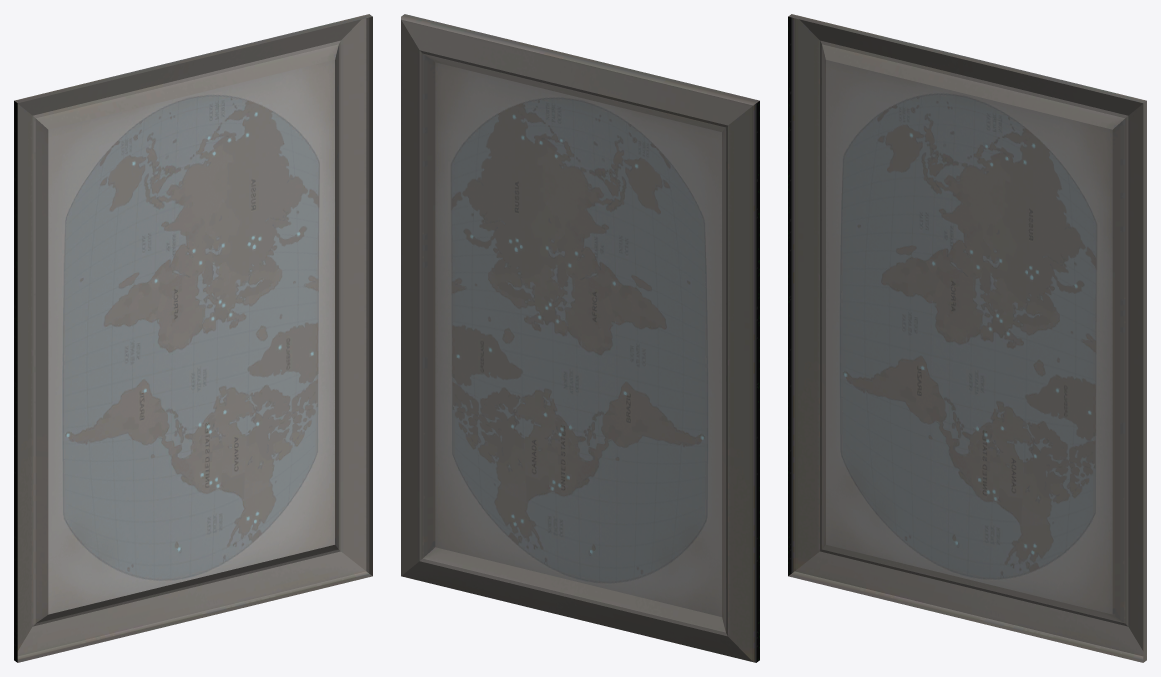
File: props_hydro_wall_map.glb
3 views of the same model, side by side, from view 1: azimuth 30°, elevation 25°; view 2: azimuth 150°, elevation 25°; view 3: azimuth 330°, elevation 25° (orthographic).
Parts seen in each view (by area): view 1: models/props_hydro/wall_map; view 2: models/props_hydro/wall_map; view 3: models/props_hydro/wall_map.
Boxes of the visible parts, bbox=[...] form: models/props_hydro/wall_map: bbox=[14, 14, 372, 662]; models/props_hydro/wall_map: bbox=[401, 14, 759, 662]; models/props_hydro/wall_map: bbox=[788, 14, 1146, 662].
Size of the model in its own units: 182 by 275 by 7.56.
Materials: 1 (1 with a texture image).
